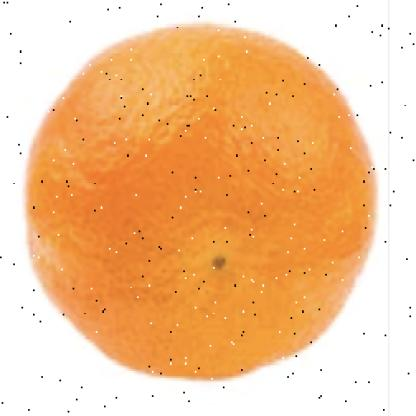fresh: (28, 23, 375, 378)
